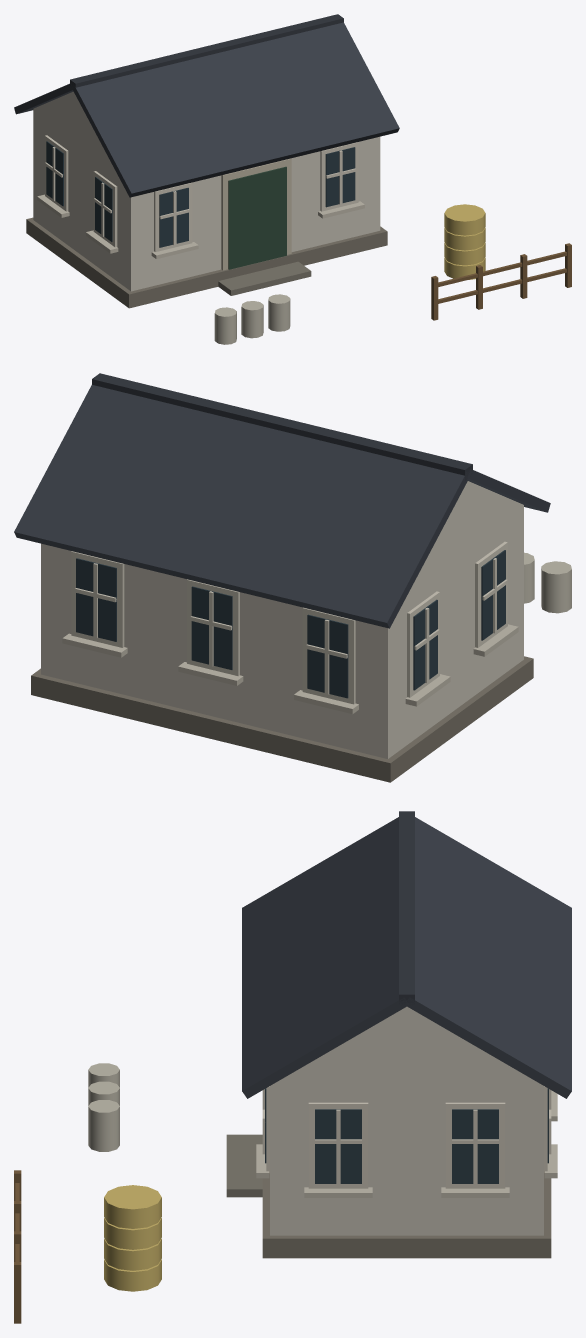
The model's file is procedural_dairy@5.glb.
3 renders of one model, top to bottom at view 1: azimuth 30°, elevation 25°; view 2: azimuth 150°, elevation 25°; view 3: azimuth 270°, elevation 25°, orthographic. The views are drawn at different scales.
Parts seen in each view (by area): view 1: part_0; view 2: part_0; view 3: part_0.
Boxes of the visible parts, <box> form: part_0: <box>14,14,571,344</box>; part_0: <box>14,373,571,782</box>; part_0: <box>14,811,571,1323</box>.
Size of the model in its own units: 8.06 by 4.08 by 7.74.
